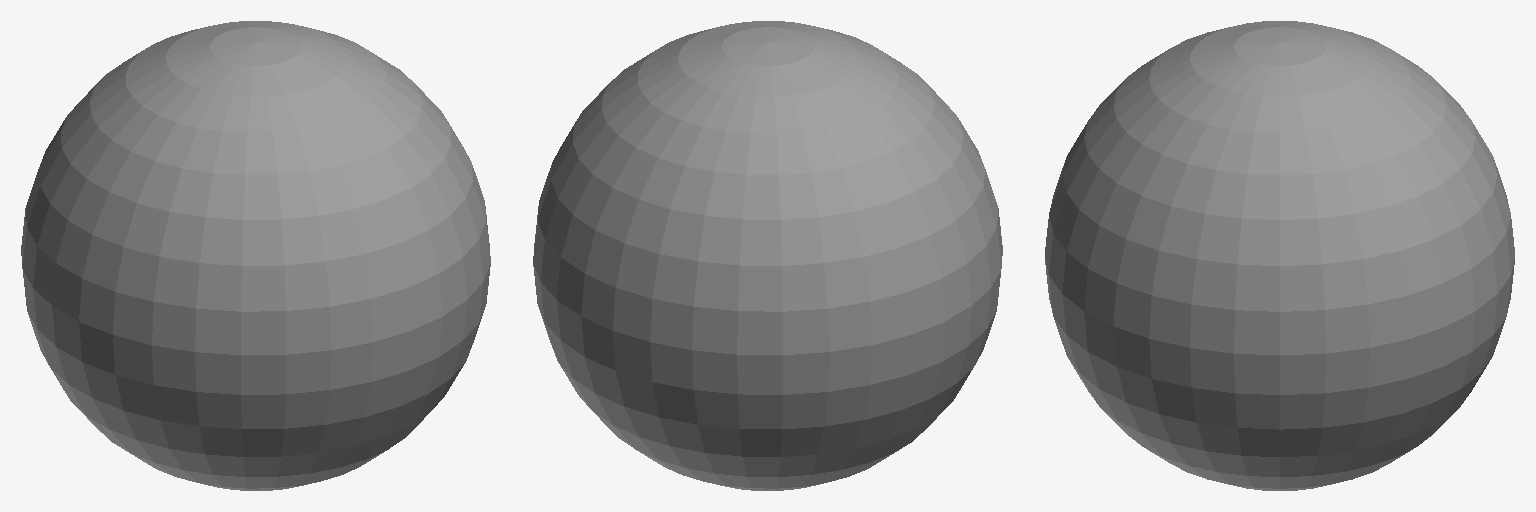
Rendered from mercury.obj.
3 renders of one model, left to right at view 1: azimuth 30°, elevation 25°; view 2: azimuth 150°, elevation 25°; view 3: azimuth 270°, elevation 25°, orthographic.
Visible parts, largest first — view 1: Mercurio_Mesh.008; view 2: Mercurio_Mesh.008; view 3: Mercurio_Mesh.008.
Part boxes in pixels (bbox=[...]): Mercurio_Mesh.008: bbox=[21, 21, 490, 490]; Mercurio_Mesh.008: bbox=[533, 21, 1002, 490]; Mercurio_Mesh.008: bbox=[1045, 21, 1514, 490].
Size of the model in its own units: 2.19 by 2.19 by 2.19.